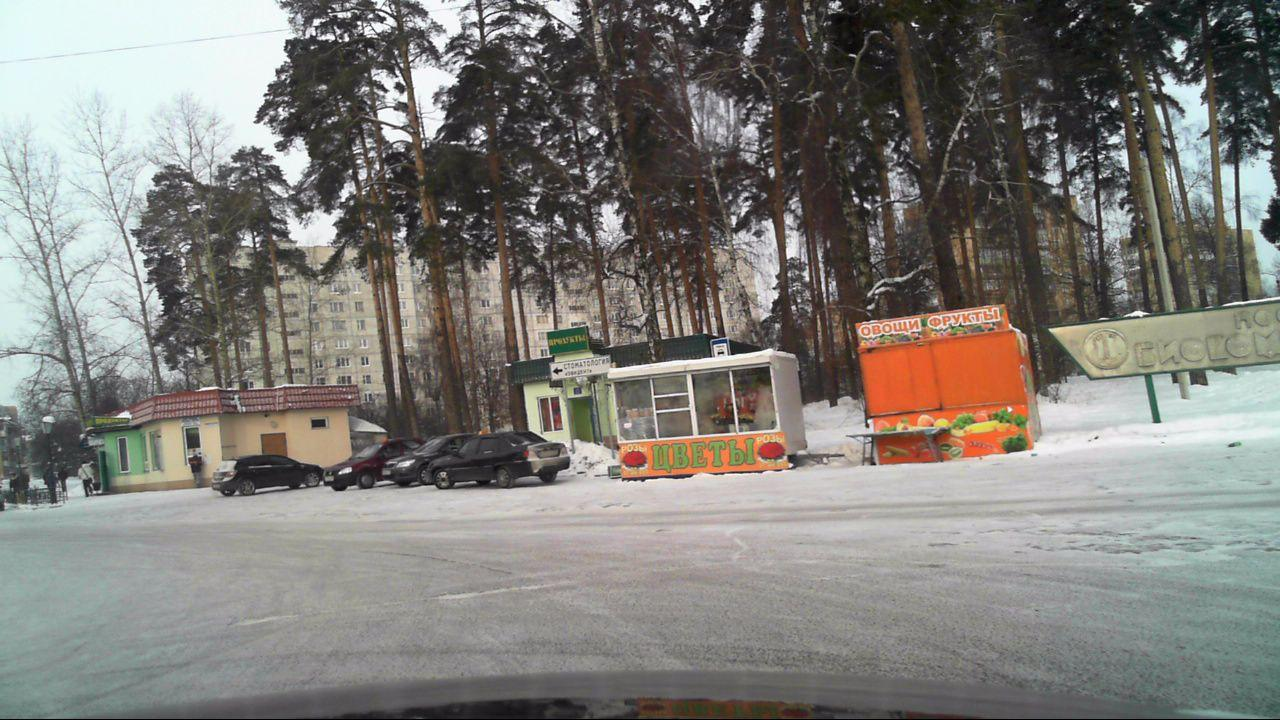5_18: (710, 338, 729, 362)
6_10_1: (549, 353, 612, 380)
